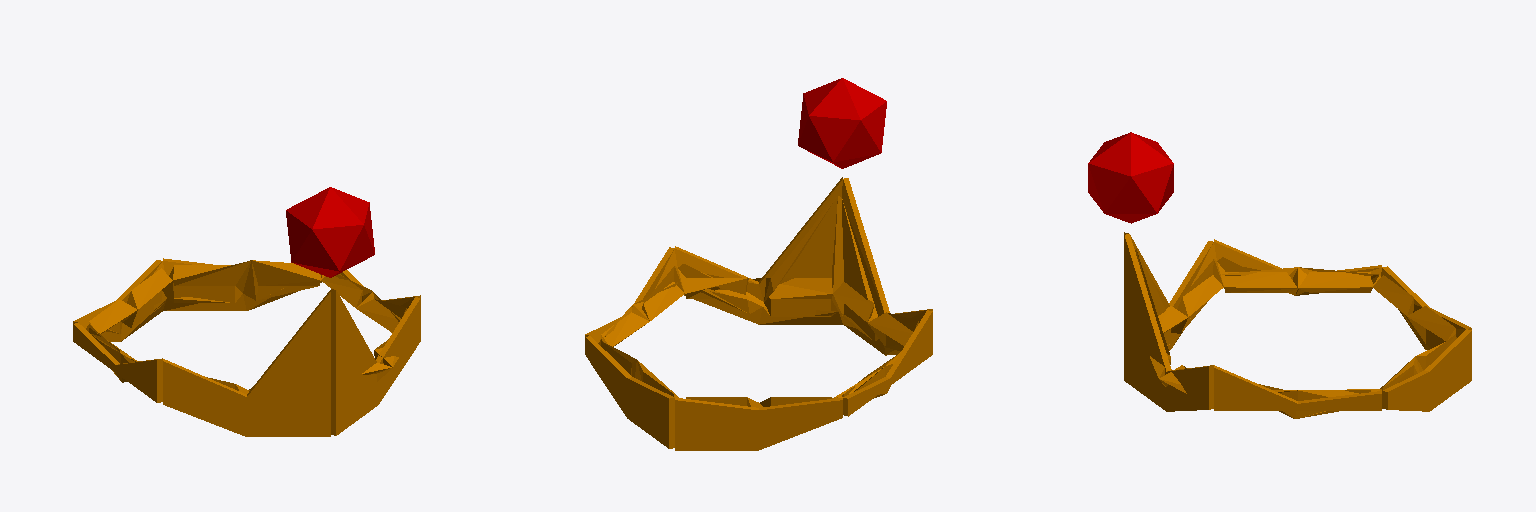
The model's file is crown.obj.
The picture shows the model from 3 angles: view 1: azimuth 30°, elevation 25°; view 2: azimuth 150°, elevation 25°; view 3: azimuth 270°, elevation 25°; orthographic projection.
Visible parts, largest first — view 1: Cylinder; view 2: Cylinder; view 3: Cylinder.
Part boxes in pixels (x1,y1,x2,y2): Cylinder: (73,187,420,436); Cylinder: (585,78,932,450); Cylinder: (1088,132,1471,418).
Bounding box in the file's own units: 0.7533 × 0.6767 × 0.951.